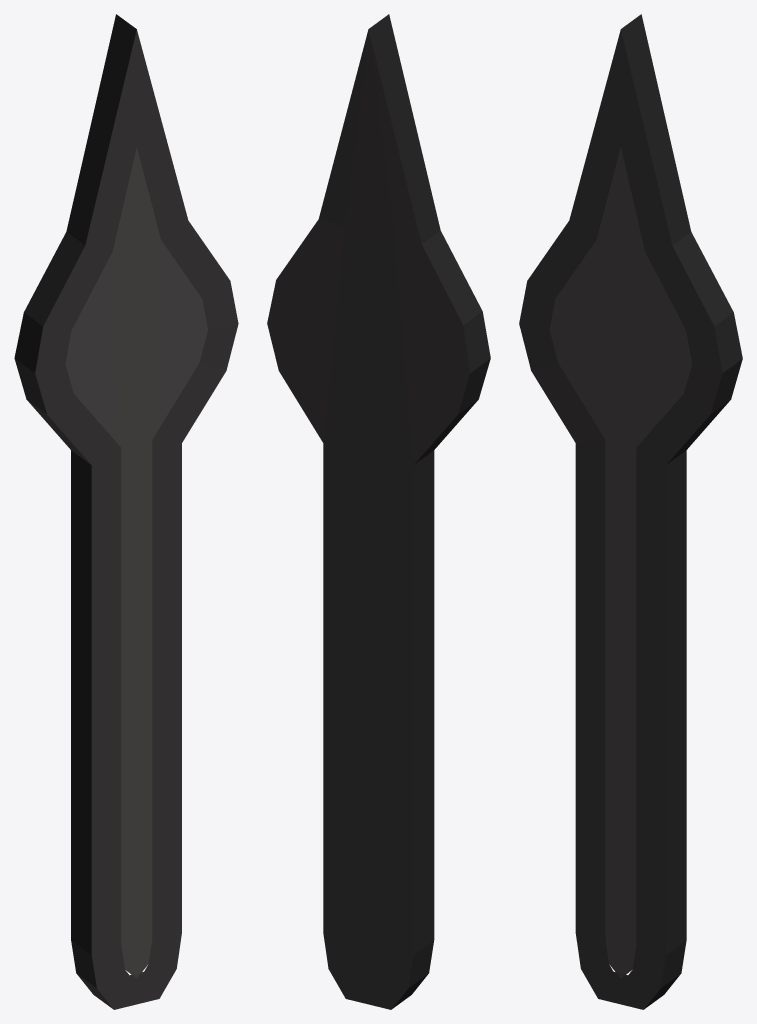
File: Countdown_Pirate_Arrow.glb
3 views of the same model, side by side, from view 1: azimuth 30°, elevation 25°; view 2: azimuth 150°, elevation 25°; view 3: azimuth 330°, elevation 25° (orthographic).
Visible parts, largest first — view 1: PirateClock_Arrow.001; view 2: PirateClock_Arrow.001; view 3: PirateClock_Arrow.001.
Boxes of the visible parts, x1,y1,x2,y2 form: PirateClock_Arrow.001: [14, 14, 238, 1009]; PirateClock_Arrow.001: [267, 14, 490, 1009]; PirateClock_Arrow.001: [519, 14, 742, 1009].
Size of the model in its own units: 0.0298 by 0.1366 by 0.00526.
1 material, 1 textured.
